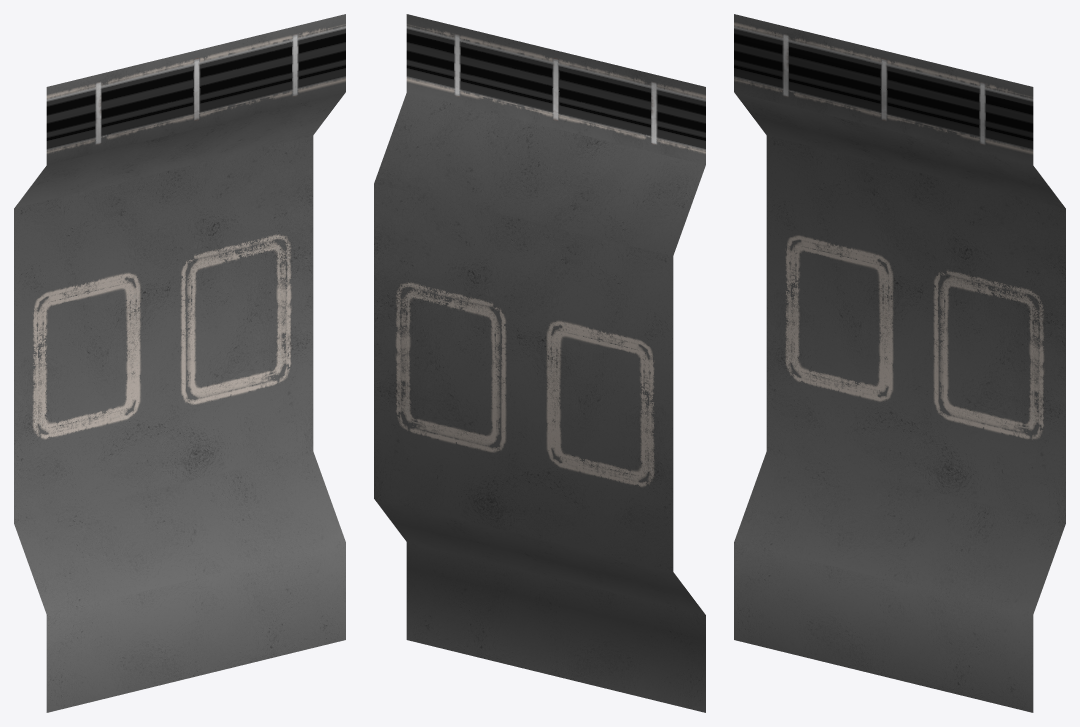
The model's file is Wall_2x4m_Hall.fbx.
3 renders of one model, left to right at view 1: azimuth 30°, elevation 25°; view 2: azimuth 150°, elevation 25°; view 3: azimuth 330°, elevation 25°, orthographic.
Parts seen in each view (by area): view 1: Wall_2x4m_Hallway; view 2: Wall_2x4m_Hallway; view 3: Wall_2x4m_Hallway.
Boxes of the visible parts, bbox=[...] form: Wall_2x4m_Hallway: bbox=[14, 14, 345, 712]; Wall_2x4m_Hallway: bbox=[374, 14, 705, 712]; Wall_2x4m_Hallway: bbox=[734, 14, 1065, 712].
Size of the model in its own units: 200 by 400 by 37.87.
1 material, 1 textured.
